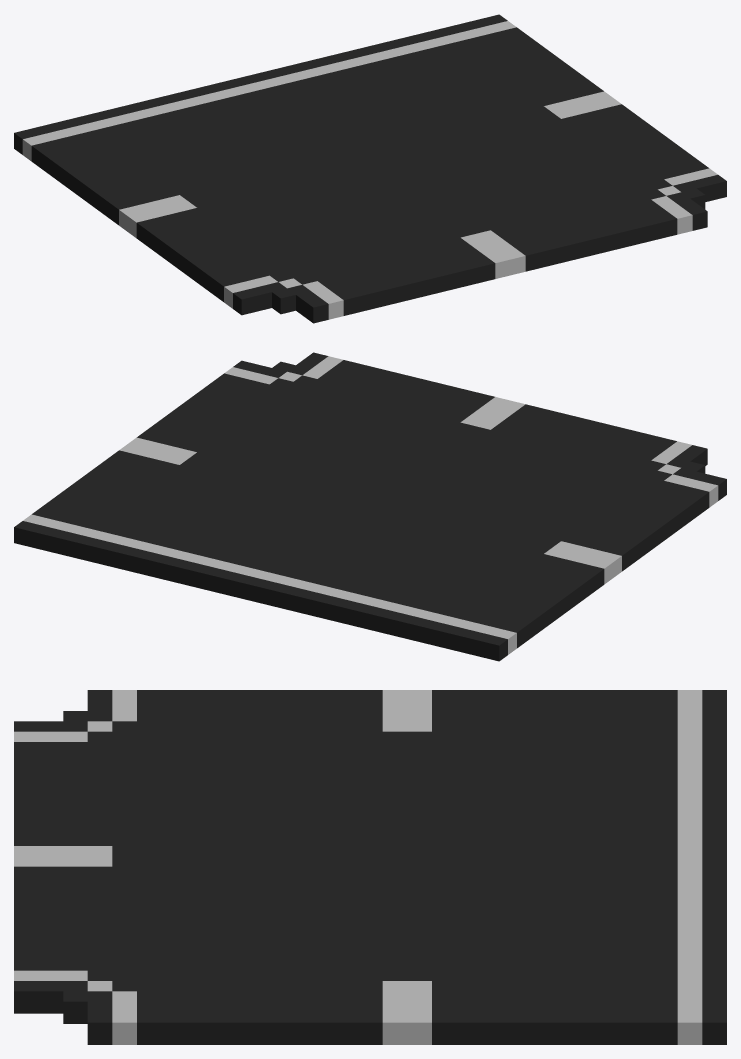
File: road-rounded-3-way-crossing-1.gltf
The picture shows the model from 3 angles, top to bottom: view 1: azimuth 30°, elevation 25°; view 2: azimuth 150°, elevation 25°; view 3: azimuth 270°, elevation 25°; orthographic projection. The views are drawn at different scales.
Visible parts, largest first — view 1: road-rounded-3-way-crossing-1; view 2: road-rounded-3-way-crossing-1; view 3: road-rounded-3-way-crossing-1.
Part boxes in pixels (x1=…): road-rounded-3-way-crossing-1: x1=14, y1=14, x2=726, y2=323; road-rounded-3-way-crossing-1: x1=14, y1=352, x2=726, y2=661; road-rounded-3-way-crossing-1: x1=14, y1=690, x2=726, y2=1044.
Bounding box in the file's own units: 3.2 × 0.1 × 2.9.
1 material, 1 textured.
